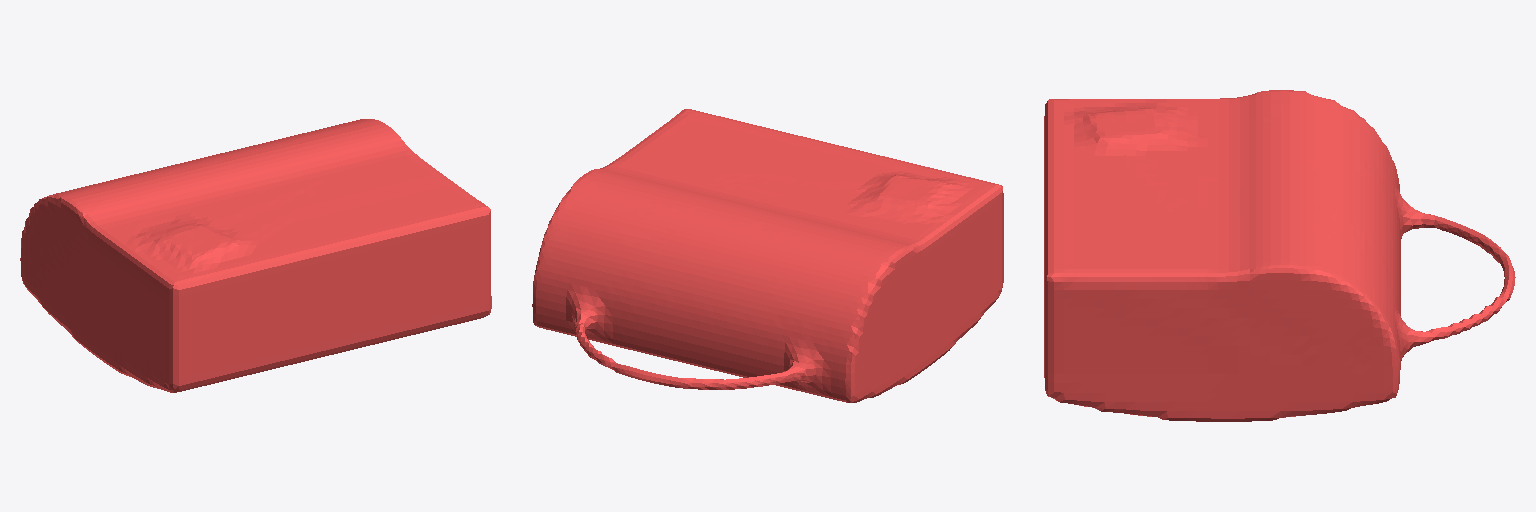
URDF robot description (cube.urdf):
<?xml version="1.0" ?>
<robot name="cube.urdf">

	<link name="baseLink">
		<contact>
			<lateral_friction value="100.5"/>
			<rolling_friction value="100.0"/>
			<contact_cfm value="0.0"/>
			<contact_erp value="1.0"/>
		</contact>
		<inertial>
			<origin rpy="0 0 0" xyz="0.0 0.0 0.0"/>
			<mass value="0.2"/>
			<inertia ixx="0.2125" ixy="-0.005" ixz="0.0225" iyy="0.205" iyz="0.045" izz="0.0125"/>
		</inertial>
		<visual>
			<origin rpy="0 0 0" xyz="0 0 0"/>
			<geometry>
				<mesh filename="object.obj" scale="01.1004 01.1004 01.1007"/> 
			</geometry>
			<material name="red">
				<color rgba="1 0.4 0.4 1"/>
			</material>
		</visual>
		<collision>
			<origin rpy="0 0 0" xyz="0 0 0"/>
			<geometry>
				<mesh filename="object.obj" scale="01.1004 01.1004 01.1007"/>
			</geometry>
		</collision>
	</link>



</robot>

--- Facts derived from the render (not from the file) ---
3 views of the same robot in one strip: view 1: azimuth 30°, elevation 25°; view 2: azimuth 150°, elevation 25°; view 3: azimuth 270°, elevation 25° (orthographic).
Robot: cube.urdf — 1 links, 0 joints (none); root link baseLink; default pose: all joints at 0.
Links seen in each view (by area): view 1: baseLink; view 2: baseLink; view 3: baseLink.
Boxes of the visible links, bbox=[...] form: baseLink: bbox=[20, 119, 491, 392]; baseLink: bbox=[532, 109, 1003, 402]; baseLink: bbox=[1044, 90, 1515, 421].
Size in the robot's own frame: 0.3084 by 0.341 by 0.1247 metres.
1 mesh visuals loaded from 1 distinct referenced files (1 OBJ).